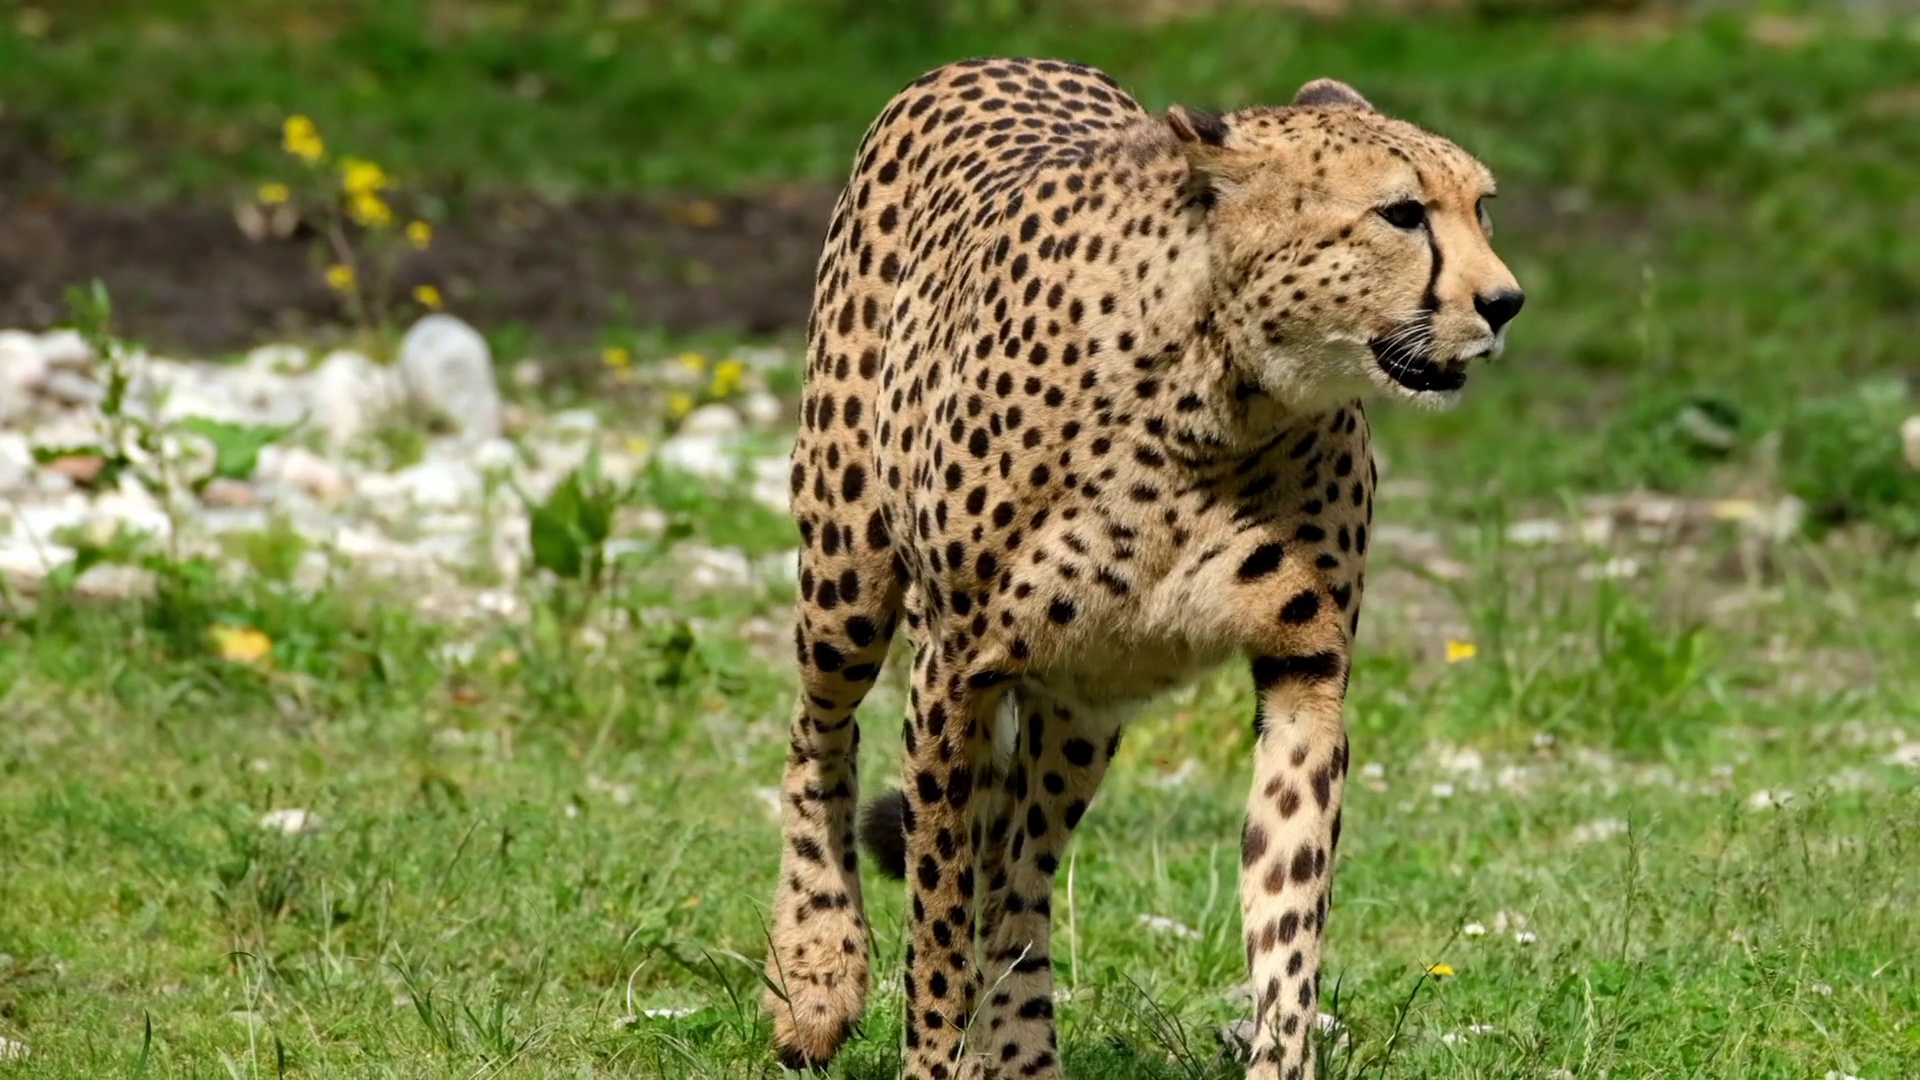Cheetah: (757, 51, 1527, 1080)
